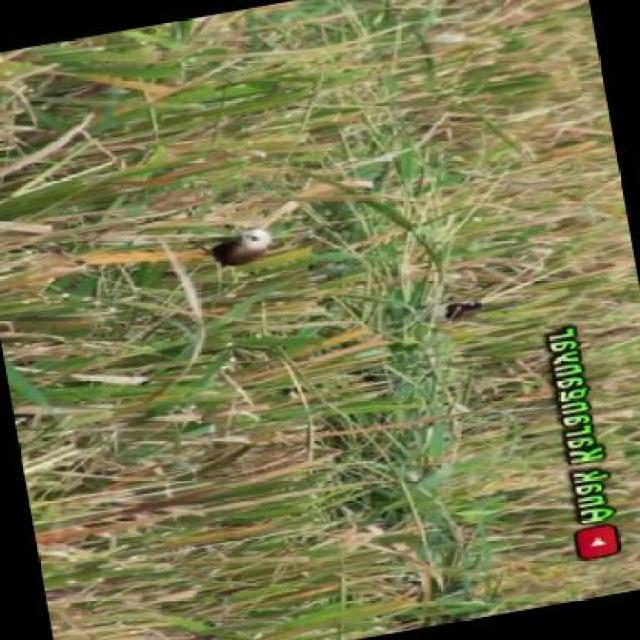Bird: (194, 216, 277, 279), (444, 294, 485, 321)
